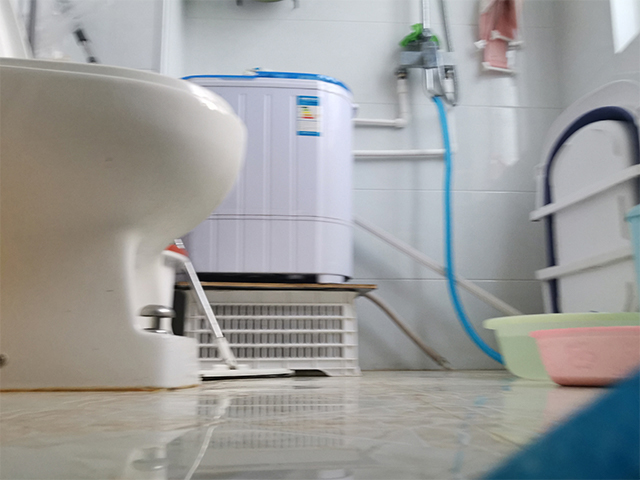closestool: (1, 55, 252, 393)
